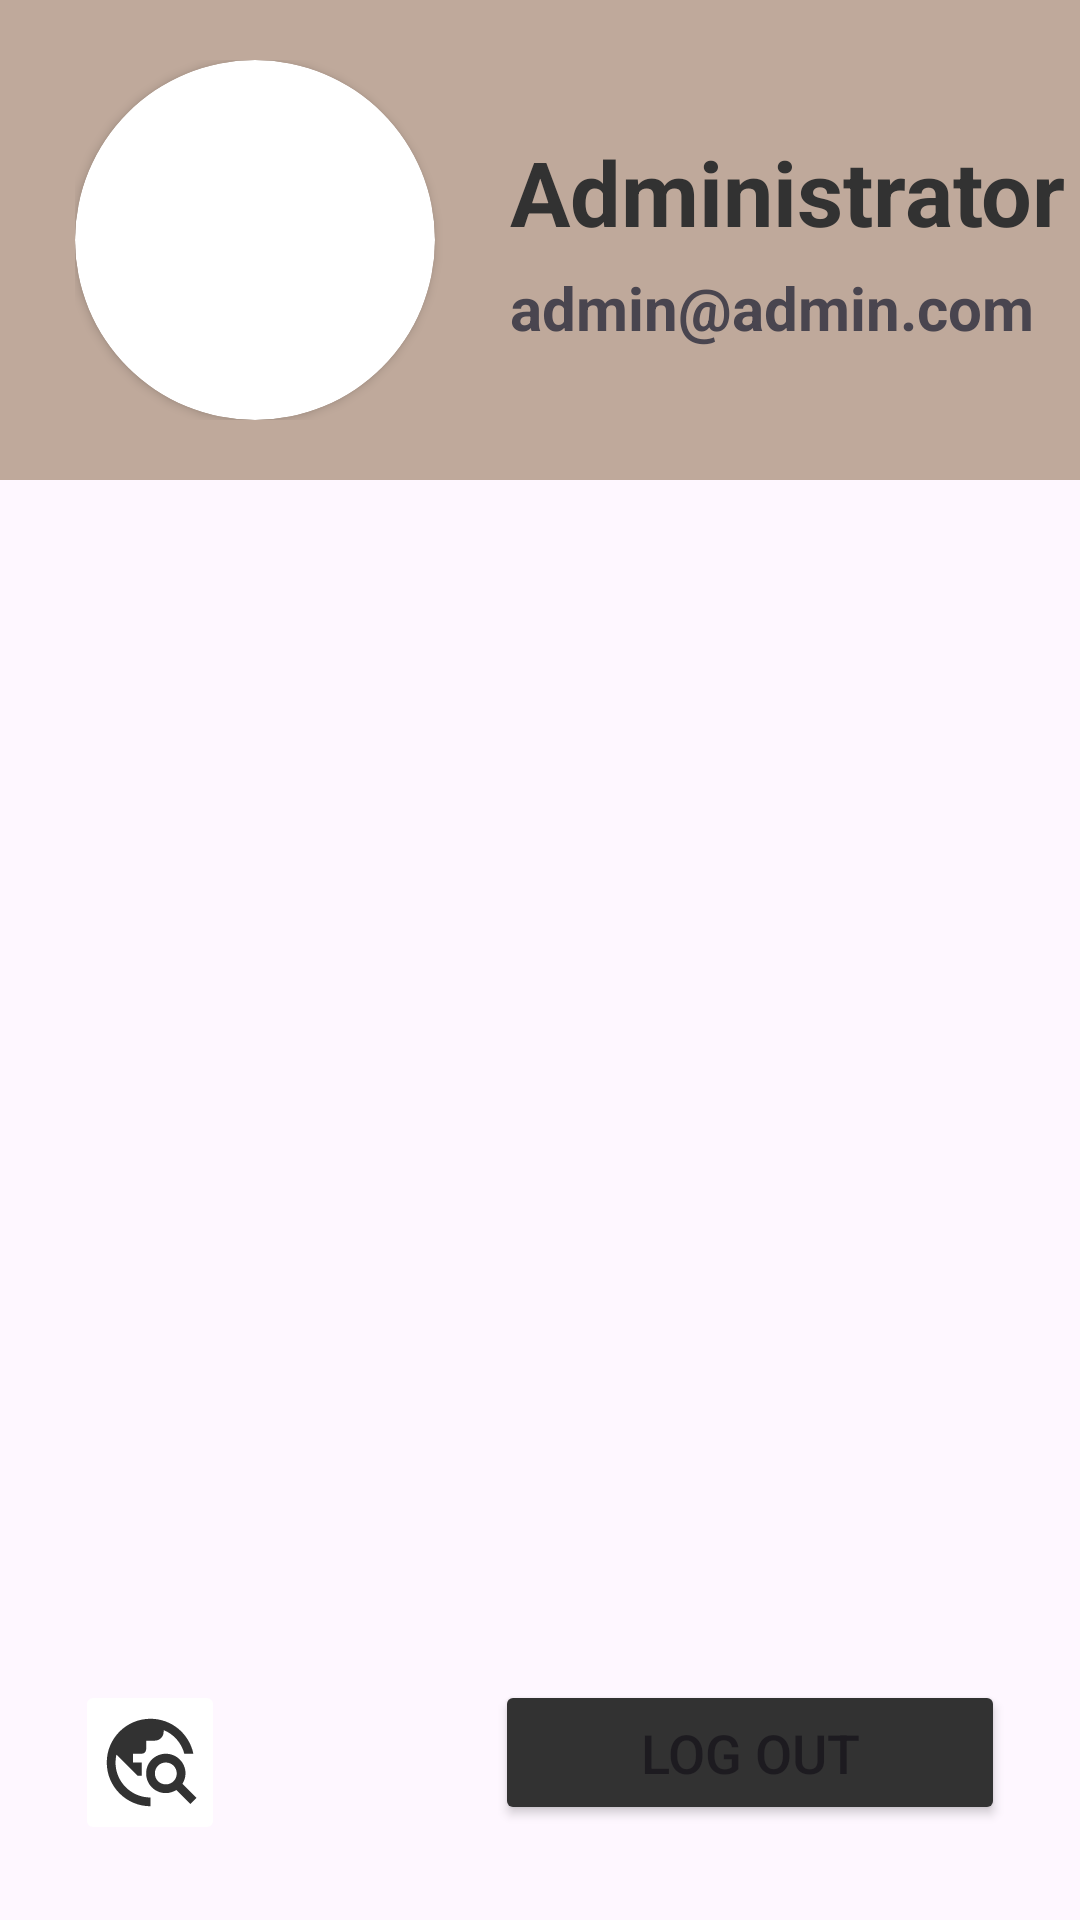

Where to tap for icons on this 1080×1920 app screen, as [x,y]:
Open internet page: [151,1762]
